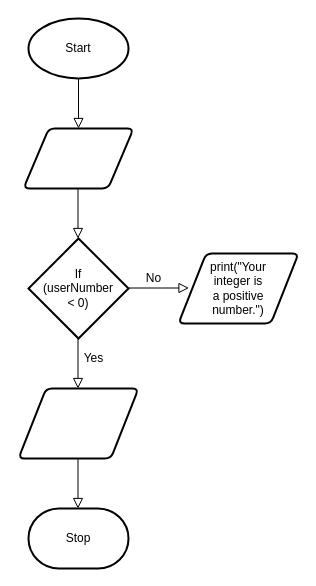
The diagram is 316 pixels wide and 586 high, and some of its shapes have lost their labels. The box of each missing label's shape, as (x1, y1, x2, y2) in pixels:
Get user's integer: (22, 127, 134, 189)
print("Your integer is a negative number."): (17, 387, 139, 459)
